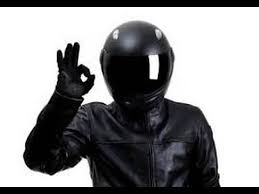com_capacete: (95, 18, 180, 116)
